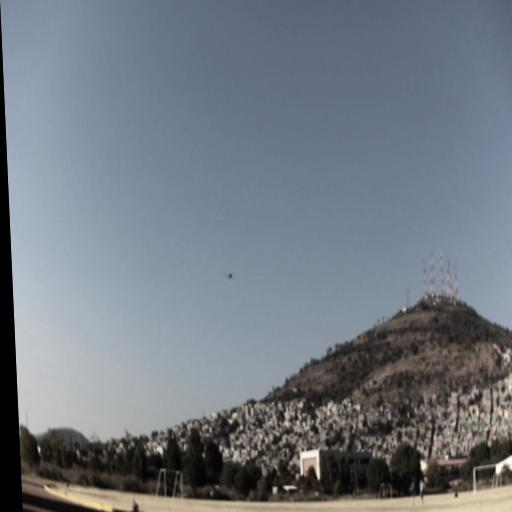drones: (223, 268, 238, 283)
